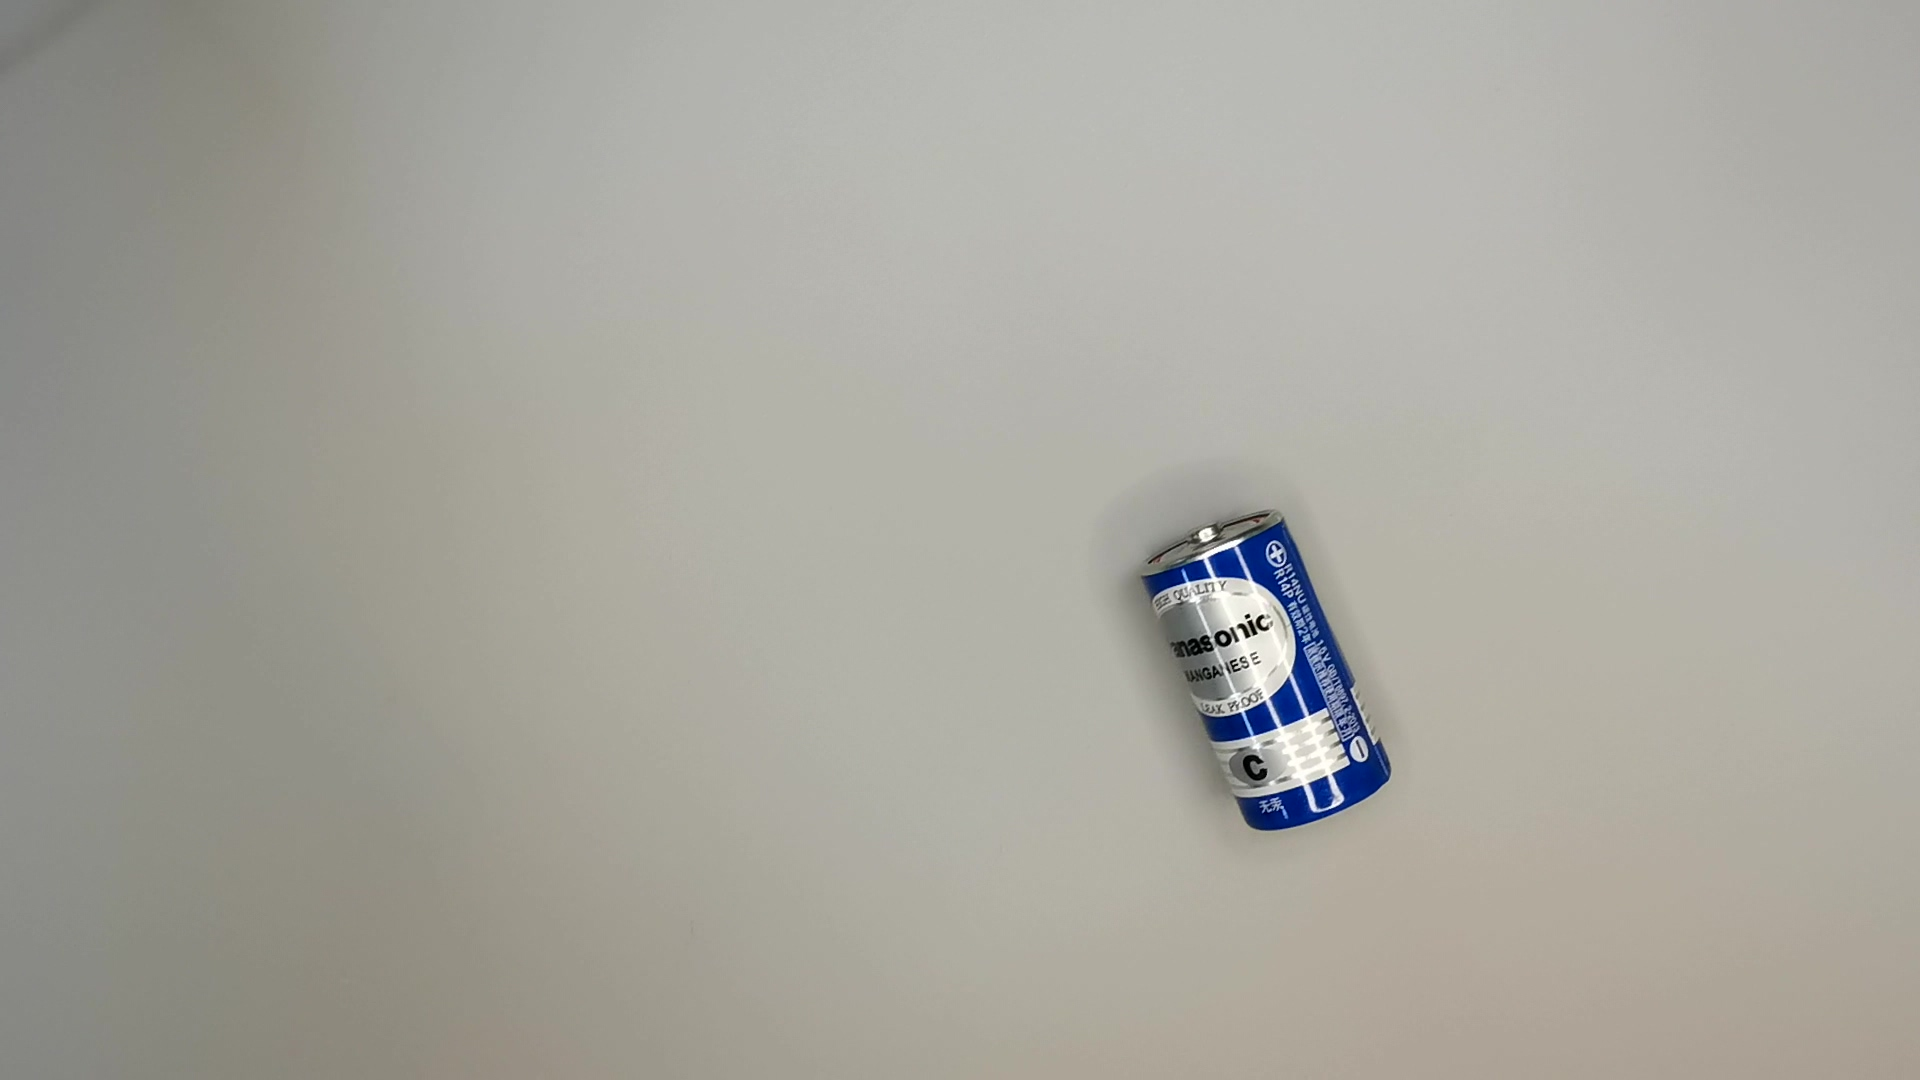battery: (1134, 502, 1396, 839)
